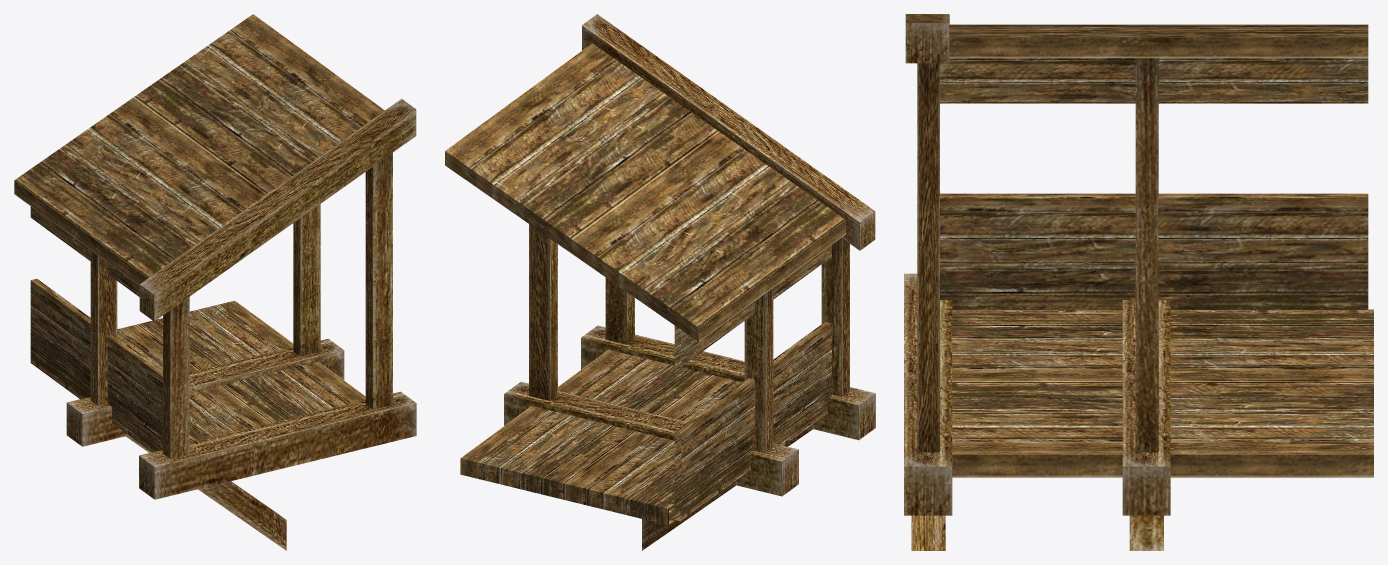
3 views of the same model, side by side, from view 1: azimuth 30°, elevation 25°; view 2: azimuth 150°, elevation 25°; view 3: azimuth 270°, elevation 25° (orthographic). The views are drawn at different scales.
Parts seen in each view (by area): view 1: cc60-col; view 2: cc60-col; view 3: cc60-col.
Boxes of the visible parts, x1,y1,x2,y2 form: cc60-col: (14, 14, 416, 550); cc60-col: (445, 14, 875, 550); cc60-col: (904, 14, 1373, 550).
Bounding box in the file's own units: 4 × 6.01 × 4.11.
4 materials, 4 textured.
